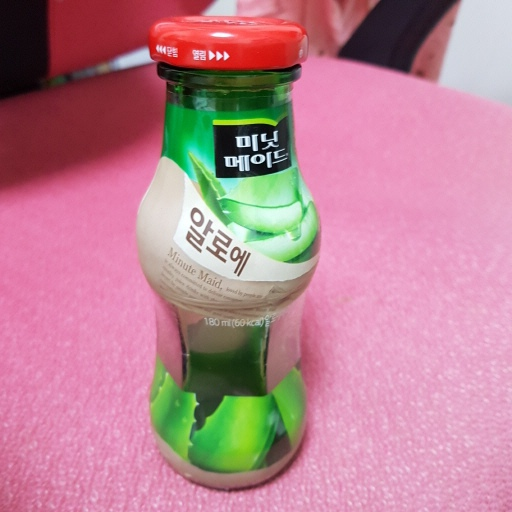Glass_4: (138, 10, 320, 490)
